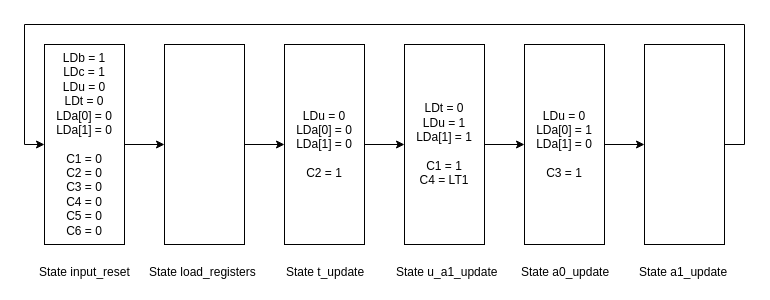
Some shapes in this 770 by 300 pixel diagram are drawn without their labels. Here are the shapes that lost their labels. From the top down, the centre of each, then its label:
At pixel 204 144: "LDb = 0 LDc = 0 LDu = 1 LDt = 1 LDa[0] = 1 LDa[1] = 1".
At pixel 684 144: "LDu = 0 LDa[0] = 0 LDa[1] = 1 C5 = LT2 C6 = 1".
